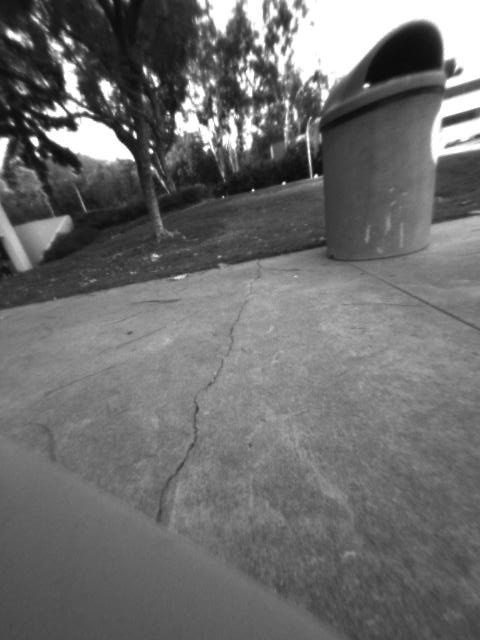trashcan: (311, 17, 452, 261)
